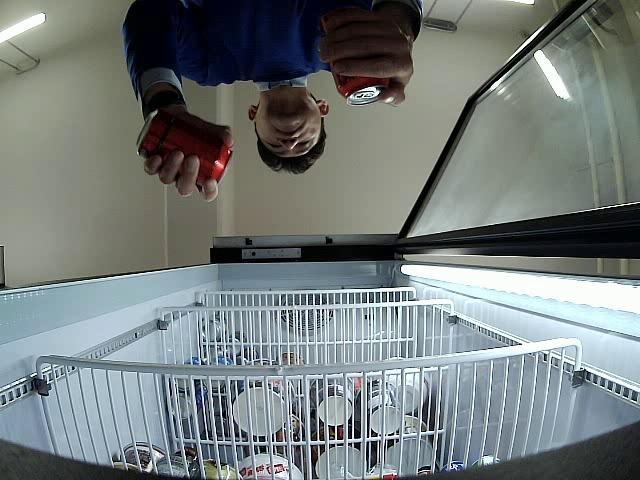11_cocaColaZero: (137, 110, 234, 188), (322, 8, 392, 106)
